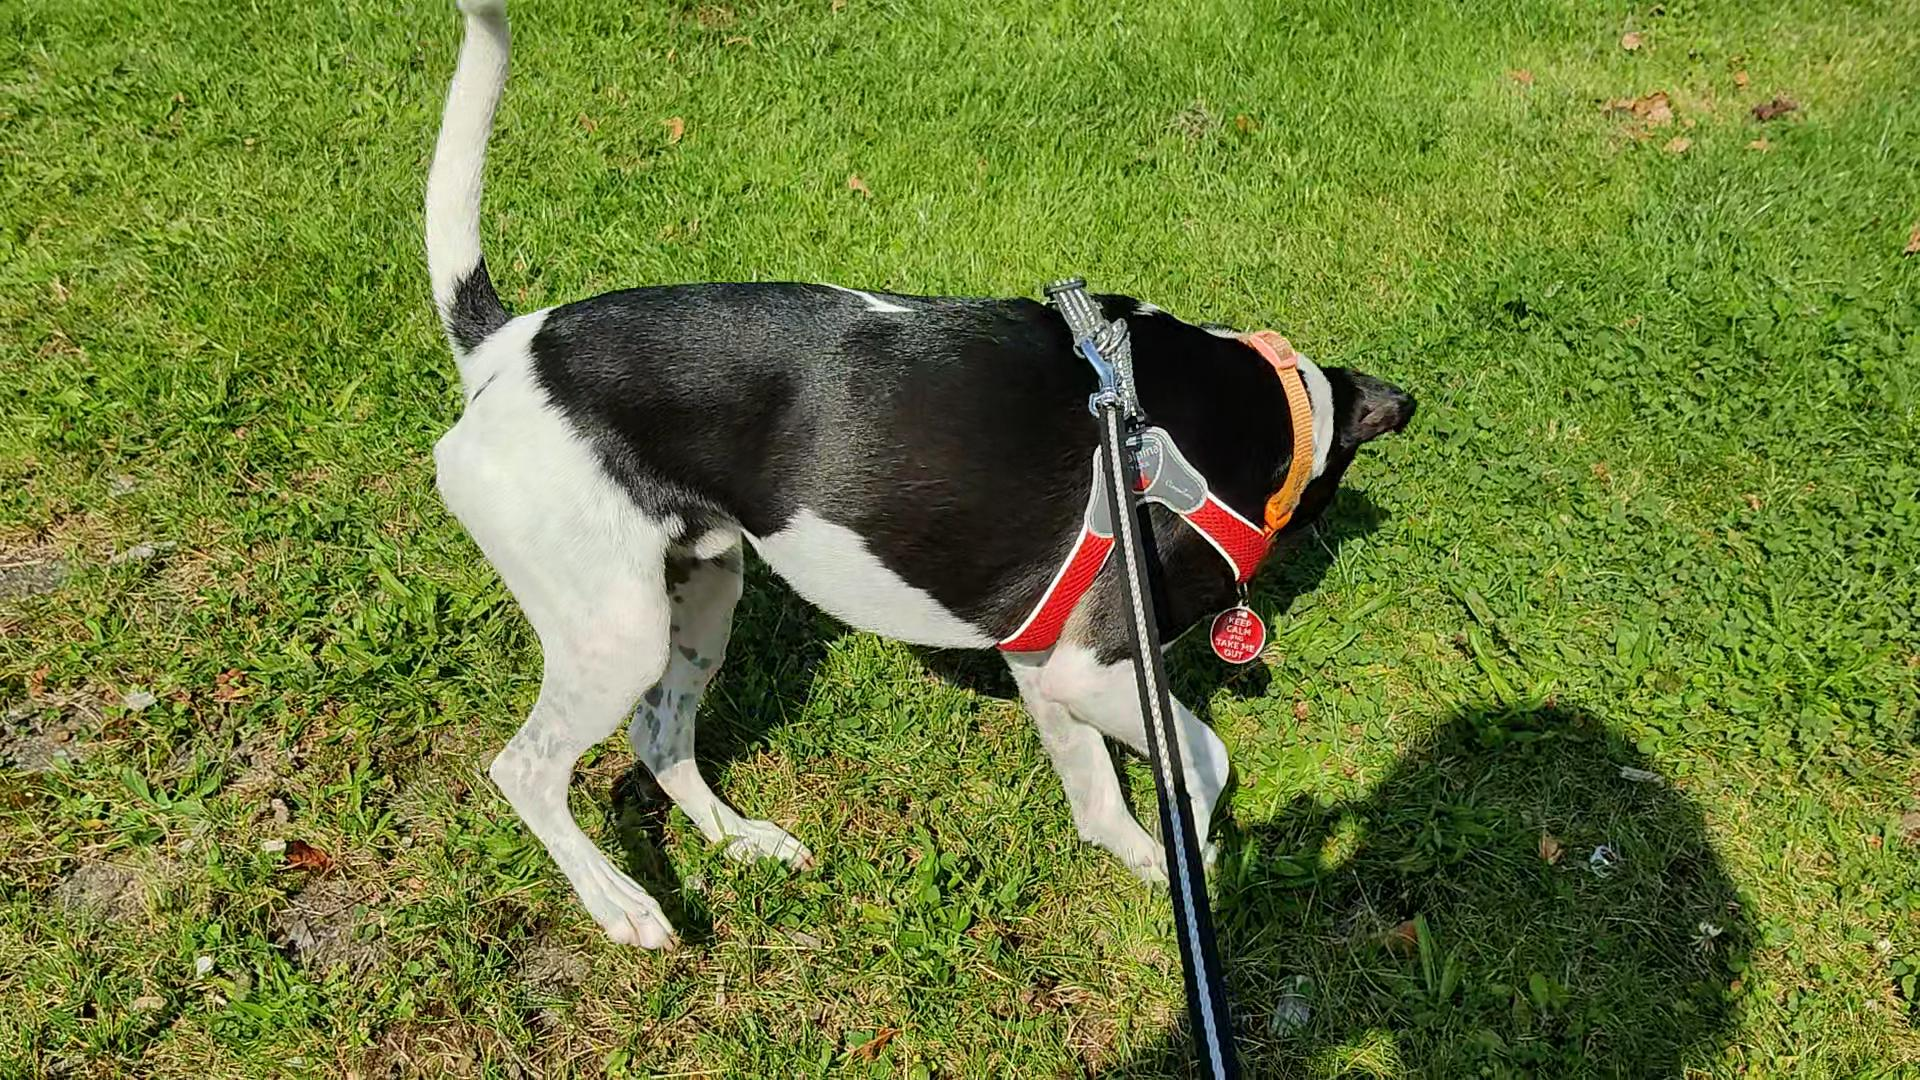Dog: (411, 0, 1425, 948)
